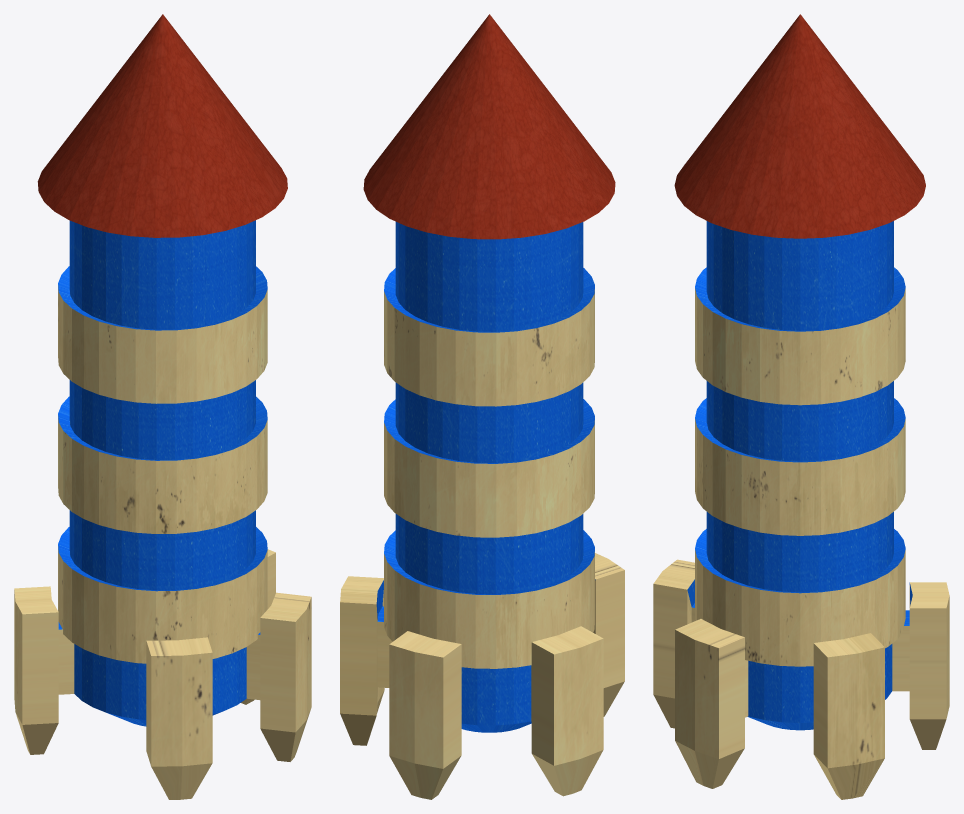
The model's file is Rocket.fbx.
3 views of the same model, side by side, from view 1: azimuth 30°, elevation 25°; view 2: azimuth 150°, elevation 25°; view 3: azimuth 270°, elevation 25° (orthographic).
Parts seen in each view (by area): view 1: Cylinder, metalCase, Cone, thrustercase; view 2: Cylinder, metalCase, Cone, thrustercase; view 3: Cylinder, metalCase, Cone, thrustercase.
Boxes of the visible parts, x1,y1,x2,y2 form: Cylinder: (58, 220, 267, 726); metalCase: (58, 285, 267, 663); Cone: (37, 14, 287, 237); thrustercase: (14, 549, 311, 799); Cylinder: (376, 222, 595, 732); metalCase: (384, 289, 594, 668); Cone: (363, 14, 615, 239); thrustercase: (340, 553, 624, 799); Cylinder: (687, 221, 912, 730); metalCase: (695, 288, 905, 666); Cone: (674, 14, 925, 238); thrustercase: (653, 559, 949, 799).
Size of the model in its own units: 50.99 by 51.39 by 140.
Materials: 3 (3 with a texture image).
